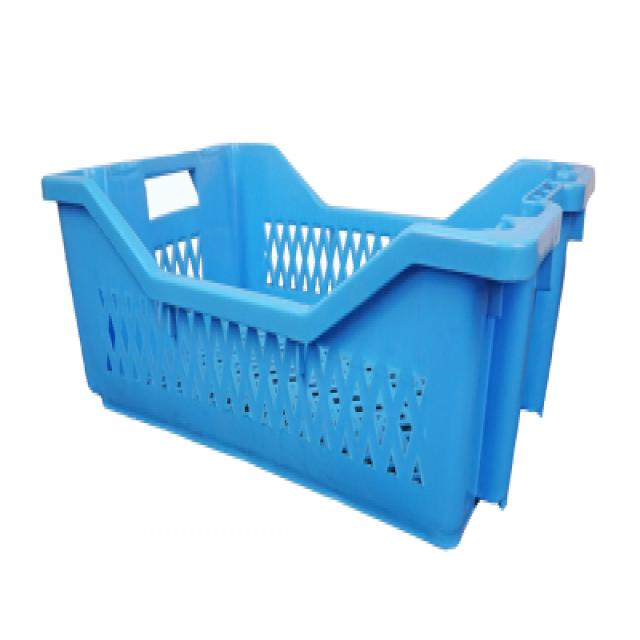basket: (21, 130, 598, 555)
